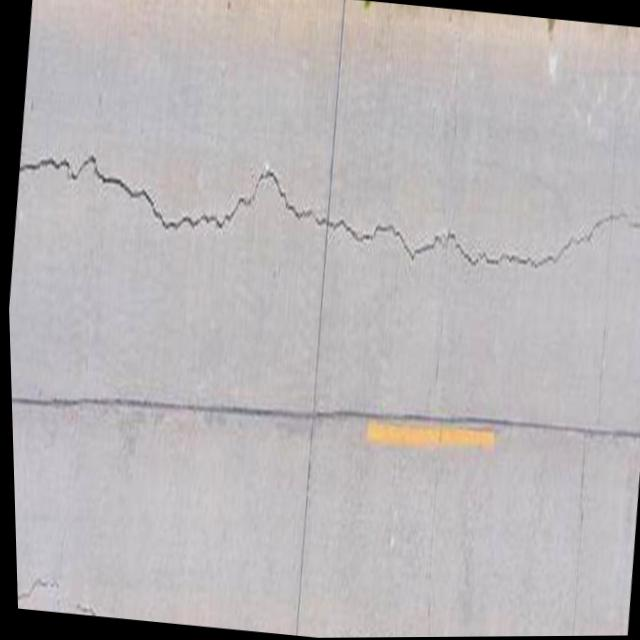Crack: (11, 88, 640, 319)
